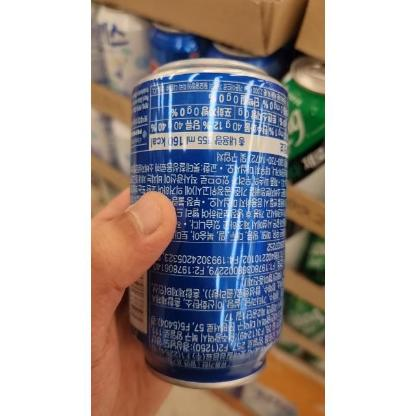Can: (130, 58, 286, 390)
